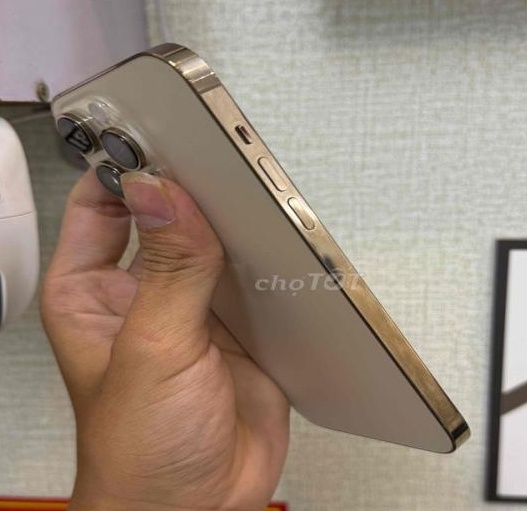scratch: (340, 261, 459, 428)
